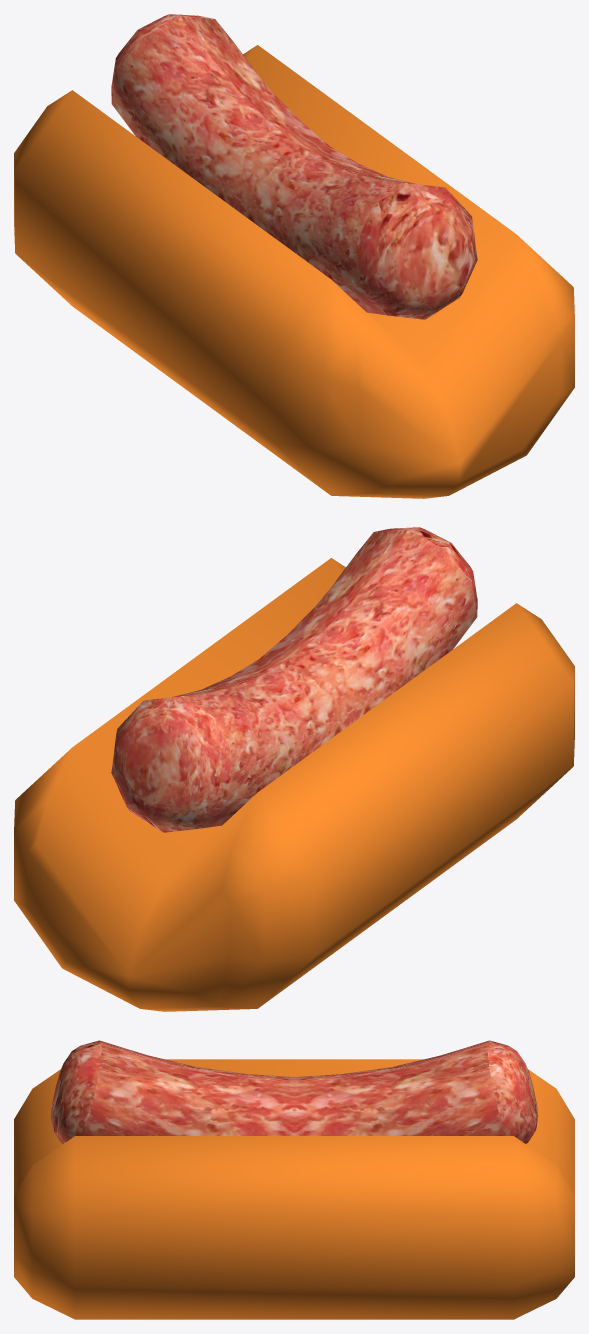
File: hot dog.mtl.obj
3 renders of one model, top to bottom at view 1: azimuth 30°, elevation 25°; view 2: azimuth 150°, elevation 25°; view 3: azimuth 270°, elevation 25°, orthographic. The views are drawn at different scales.
Visible parts, largest first — view 1: Cylinder; view 2: Cylinder; view 3: Cylinder.
Boxes of the visible parts, x1,y1,x2,y2 form: Cylinder: [14, 14, 574, 498]; Cylinder: [14, 527, 574, 1011]; Cylinder: [14, 1040, 574, 1319].
Bounding box in the file's own units: 1.59 × 1.54 × 3.03.
